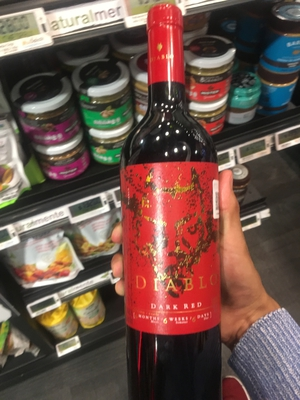diablo dark red: (116, 10, 231, 398)
